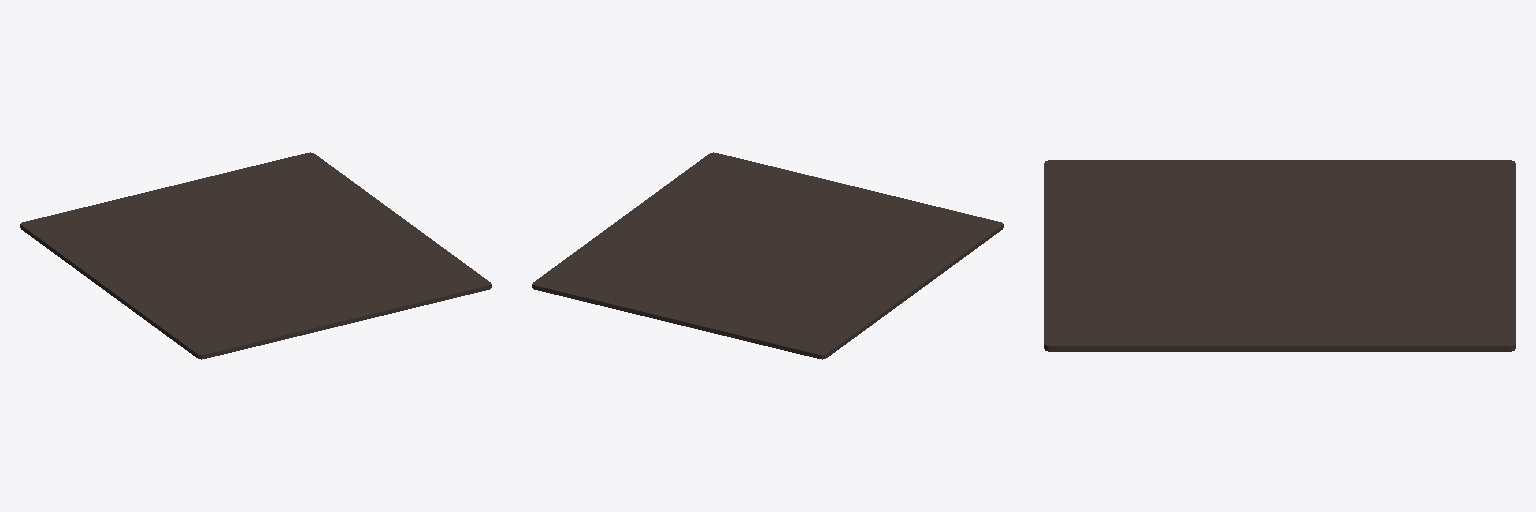
The robot description file, URDF, robot "trifinger_stage":
<?xml version="1.0" encoding="utf-8"?>
<!-- =================================================================================== -->
<!-- |    This document was autogenerated by xacro from [local-path]/ws/fingers/workspace/src/catkin/robots/robot_properties/robot_properties_fingers/xacro/trifinger_stage.urdf.xacro | -->
<!-- |    EDITING THIS FILE BY HAND IS NOT RECOMMENDED                                 | -->
<!-- =================================================================================== -->
<robot name="trifinger_stage">
  <link name="base_link">
  </link>
  <material name="table_material">
    <color rgba="0.31 0.27 0.25 1.0"/>
  </material>
  <link name="table_link">
    <visual>
      <origin rpy="0 0 0" xyz="0 0 0"/>
      <geometry>
        <mesh filename="package://robot_properties_fingers/meshes/trifinger_table_without_border.stl" scale="1 1 1"/>
      </geometry>
      <material name="table_material"/>
    </visual>
    <collision>
      <origin rpy="0 0 0" xyz="0 0 0"/>
      <geometry>
        <mesh filename="package://robot_properties_fingers/meshes/trifinger_table_without_border.stl" scale="1 1 1"/>
      </geometry>
    </collision>
    <inertial>
      <origin rpy="0 0 0" xyz="0 0 0"/>
      <mass value="2"/>
      <inertia ixx="0.0962833333333" ixy="0" ixz="0" iyy="0.0840333333333" iyz="0" izz="0.180283333333"/>
    </inertial>
  </link>
  <joint name="base_to_table" type="fixed">
    <parent link="base_link"/>
    <child link="table_link"/>
    <origin xyz="0 0 0"/>
  </joint>
</robot>

--- Facts derived from the render (not from the file) ---
The picture shows the robot from 3 angles, left to right: view 1: azimuth 30°, elevation 25°; view 2: azimuth 150°, elevation 25°; view 3: azimuth 270°, elevation 25°; orthographic projection.
Model trifinger_stage with 2 links and 1 joints (1 fixed), rooted at base_link, posed every joint at zero.
Links seen in each view (by area): view 1: table_link; view 2: table_link; view 3: table_link.
Boxes of the visible links, <box> form: table_link: <box>20,152,491,359</box>; table_link: <box>532,152,1003,359</box>; table_link: <box>1044,160,1515,351</box>.
Bounding box of the posed robot: 0.71 × 0.76 × 0.01 m (x, y, z).
1 mesh visuals loaded from 1 distinct referenced files (1 binary STL).
